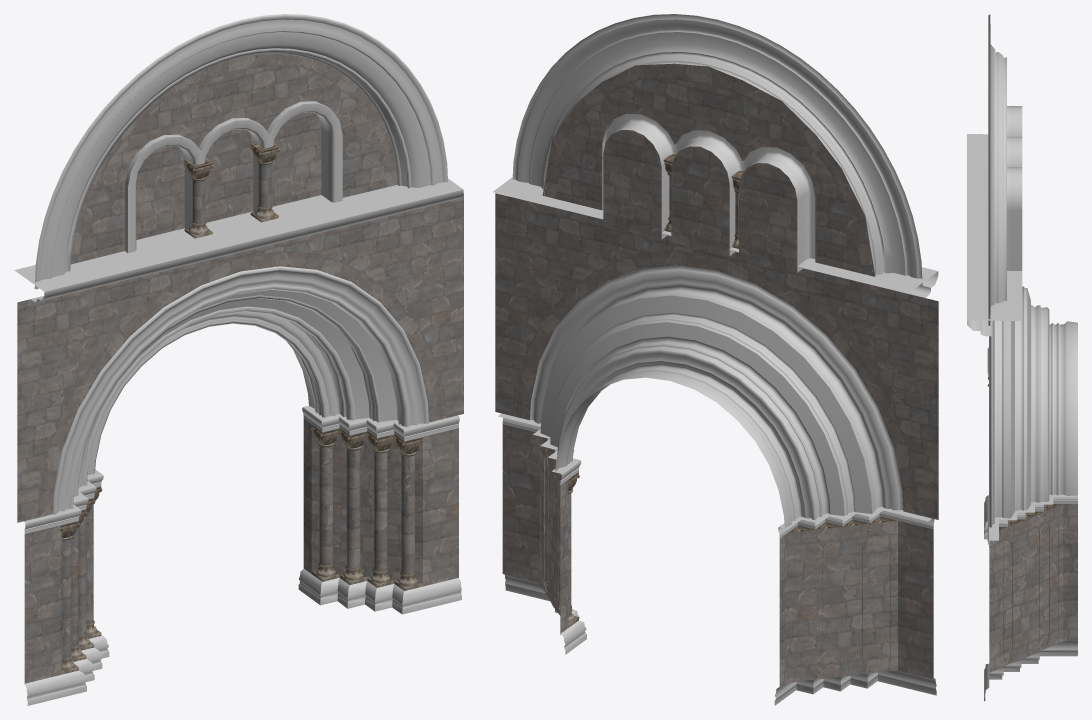
The picture shows the model from 3 angles, left to right: view 1: azimuth 30°, elevation 25°; view 2: azimuth 150°, elevation 25°; view 3: azimuth 270°, elevation 25°; orthographic projection. The views are drawn at different scales.
Parts seen in each view (by area): view 1: SM_Portal01_LOD0; view 2: SM_Portal01_LOD0; view 3: SM_Portal01_LOD0.
Part boxes in pixels (x1=…): SM_Portal01_LOD0: x1=14, y1=14, x2=463, y2=705; SM_Portal01_LOD0: x1=493, y1=14, x2=938, y2=705; SM_Portal01_LOD0: x1=967, y1=14, x2=1077, y2=701.
Size of the model in its own units: 7.8 by 10.53 by 1.84.
